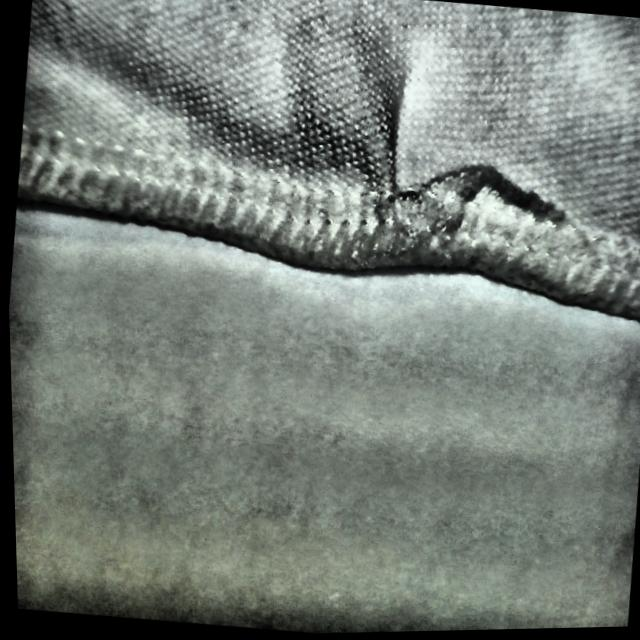seam: (338, 85, 547, 289)
